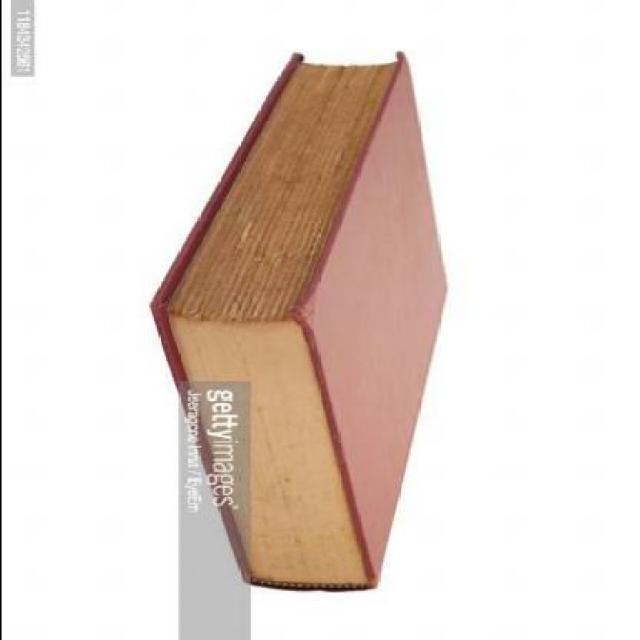book: (112, 42, 532, 602)
